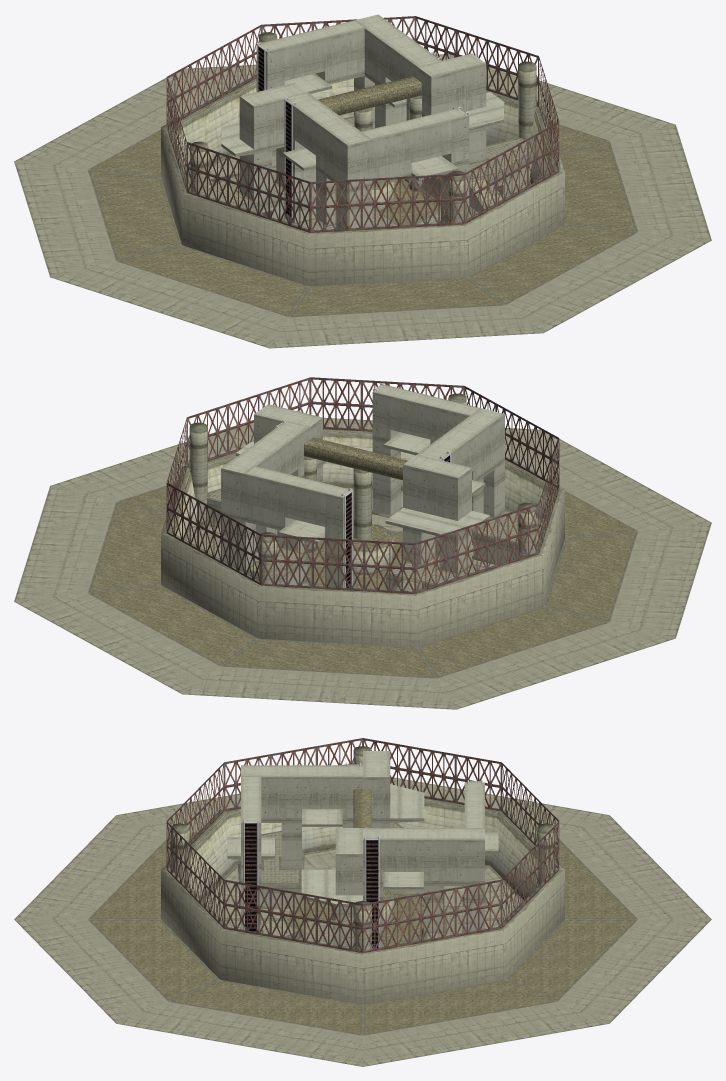
File: BASKET_YEK.fbx
3 views of the same model, one above another, from view 1: azimuth 30°, elevation 25°; view 2: azimuth 150°, elevation 25°; view 3: azimuth 270°, elevation 25° (orthographic). The views are drawn at different scales.
Visible parts, largest first — view 1: CONCRETE Basket 03.001, Plane.002; view 2: CONCRETE Basket 03.001, Plane.002; view 3: CONCRETE Basket 03.001, Plane.002.
Part boxes in pixels (bbox=[...]): CONCRETE Basket 03.001: bbox=[14, 14, 711, 348]; Plane.002: bbox=[166, 16, 559, 232]; CONCRETE Basket 03.001: bbox=[14, 384, 711, 709]; Plane.002: bbox=[166, 377, 559, 594]; CONCRETE Basket 03.001: bbox=[14, 746, 711, 1066]; Plane.002: bbox=[166, 738, 559, 952].
Bounding box in the file's own units: 103 × 19.46 × 103.
